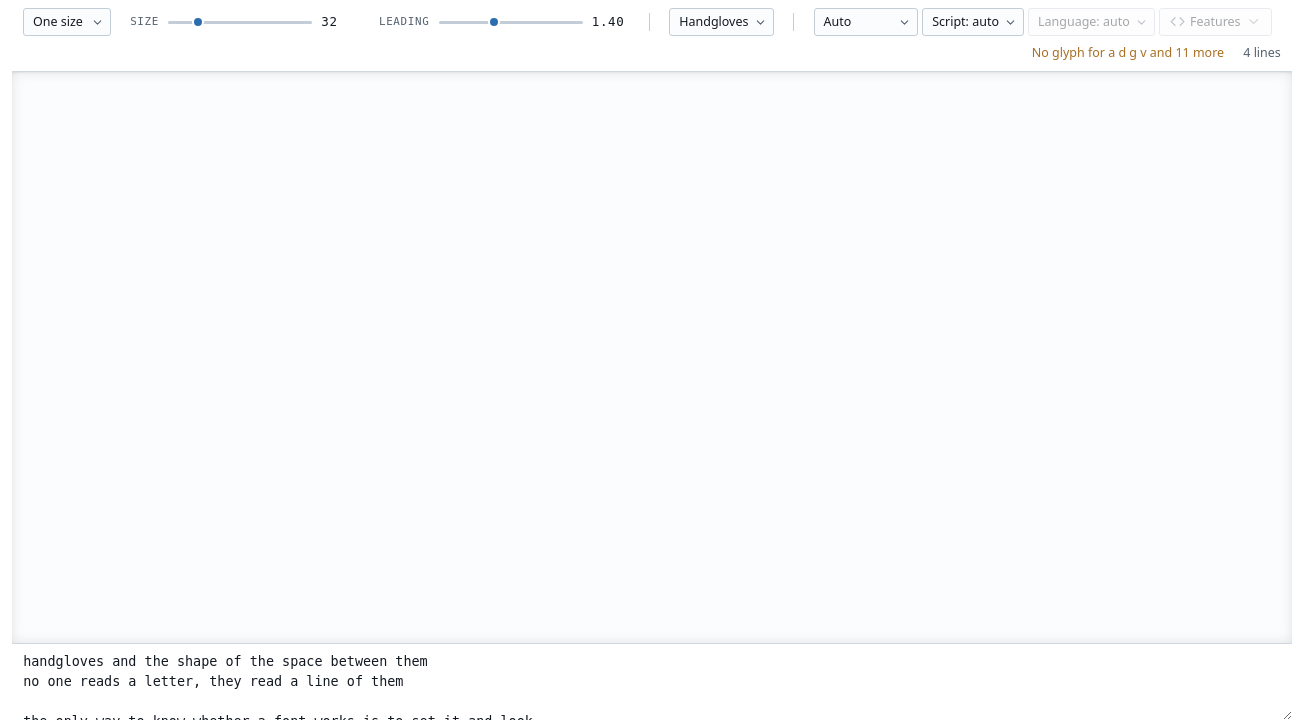
Test: the waterfall › puts the size slider away, because each block carries its own size
Expected: the slider named "Type size" is shown, [168,14,312,30]
Select "Waterfall" in the dropdown named "How the proof is set" at (67, 22), box [23,8,111,36]
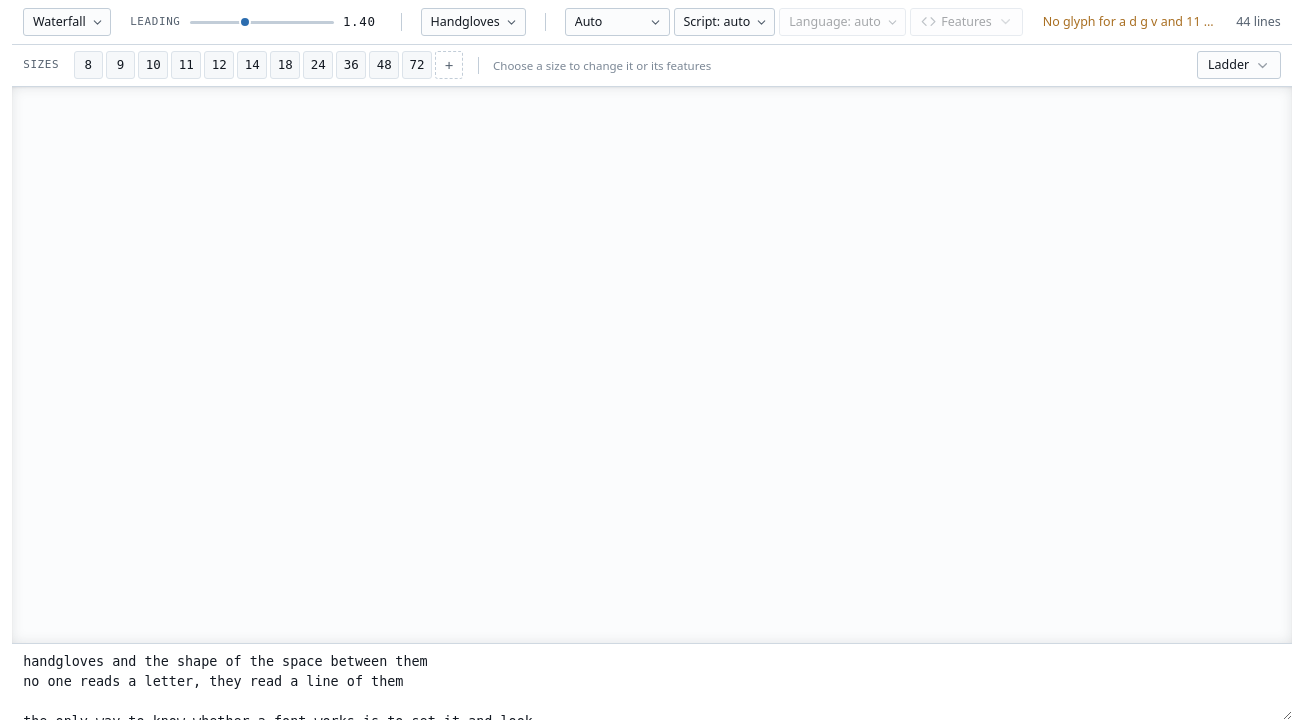
Click the button "8" at (88, 65), box [75,52,102,78]
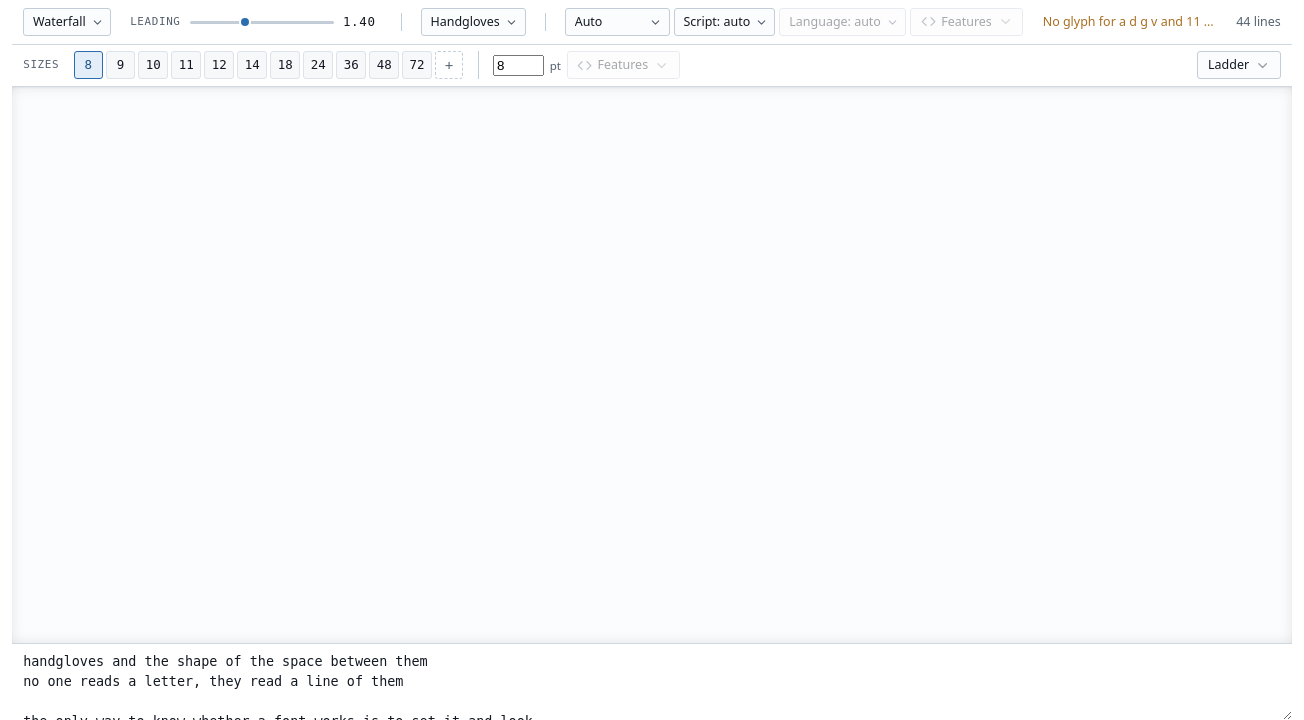
Now the field named "Size of block 1" is shown, box [493,55,544,76]
